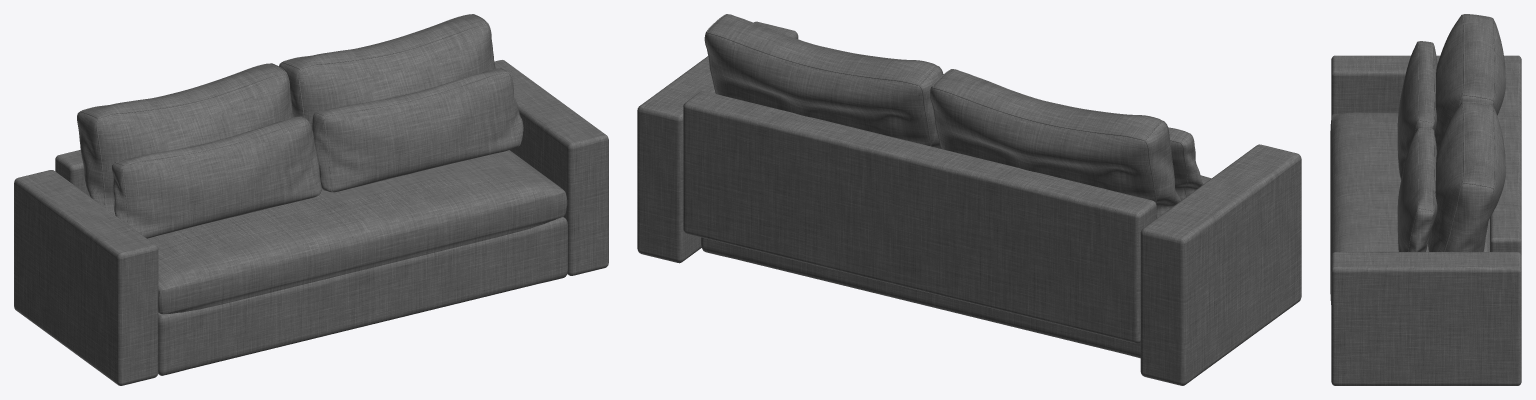
File: Sofá Cama Lucca.fbx
3 views of the same model, side by side, from view 1: azimuth 30°, elevation 25°; view 2: azimuth 150°, elevation 25°; view 3: azimuth 270°, elevation 25° (orthographic). The views are drawn at different scales.
Parts seen in each view (by area): view 1: Box02, Objeto_8, Objeto_7, Objeto_1, Objeto_2, Objeto_4, Objeto_3, Objeto_6, Objeto_5; view 2: Objeto_5, Objeto_7, Objeto_4, Objeto_3, Objeto_6, Objeto_8, Objeto_2; view 3: Objeto_6, Box02, Objeto_3, Objeto_4, Objeto_7, Objeto_5, Objeto_1, Objeto_2.
Part boxes in pixels (<box>): Box02: <box>147,150,567,314</box>; Objeto_8: <box>158,217,567,375</box>; Objeto_7: <box>14,170,158,385</box>; Objeto_1: <box>312,68,523,192</box>; Objeto_2: <box>112,116,321,238</box>; Objeto_4: <box>77,63,293,214</box>; Objeto_3: <box>279,14,495,128</box>; Objeto_6: <box>494,60,608,275</box>; Objeto_5: <box>55,150,90,196</box>; Objeto_5: <box>683,91,1156,343</box>; Objeto_7: <box>1140,144,1301,385</box>; Objeto_4: <box>930,69,1181,218</box>; Objeto_3: <box>704,14,943,148</box>; Objeto_6: <box>637,21,798,263</box>; Objeto_8: <box>701,237,1140,358</box>; Objeto_2: <box>1168,127,1203,200</box>; Objeto_6: <box>1331,252,1521,385</box>; Box02: <box>1330,112,1489,304</box>; Objeto_3: <box>1428,102,1505,251</box>; Objeto_4: <box>1434,14,1505,152</box>; Objeto_7: <box>1331,55,1521,117</box>; Objeto_5: <box>1490,62,1521,255</box>; Objeto_1: <box>1397,128,1437,251</box>; Objeto_2: <box>1397,41,1437,180</box>.
Bounding box in the file's own units: 2.4 × 0.905 × 0.9574.
Materials: 1 (1 with a texture image).
